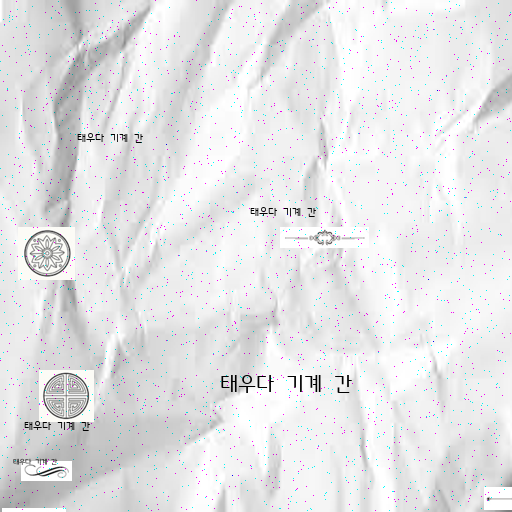text: (220, 370, 360, 390), (24, 419, 94, 429), (77, 131, 147, 141), (250, 205, 320, 215), (13, 457, 62, 464)
